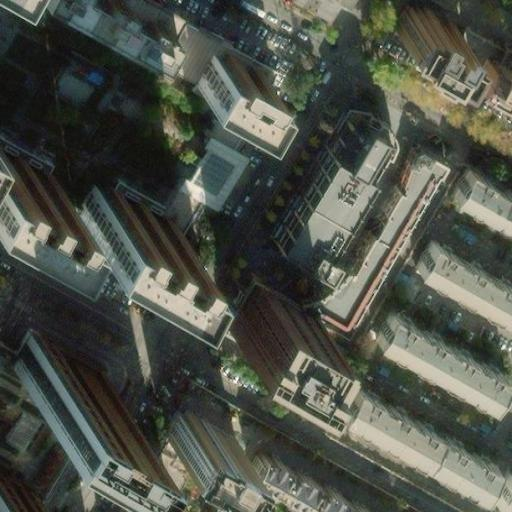building: (273, 126, 432, 313), (334, 383, 493, 492), (370, 307, 503, 402), (103, 0, 231, 79), (71, 190, 179, 276), (235, 444, 366, 512), (411, 238, 512, 320), (212, 272, 298, 360), (9, 328, 104, 404), (108, 433, 185, 512), (175, 133, 244, 209), (197, 48, 273, 112), (153, 404, 229, 467), (445, 161, 512, 227), (0, 162, 56, 227), (324, 114, 372, 171), (443, 28, 490, 78), (467, 58, 512, 109), (482, 44, 512, 75)
